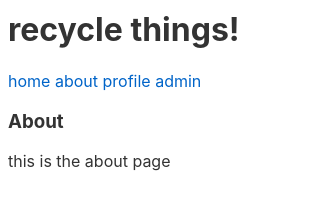
Test: App.svelte › Routing: › GIVEN: The user is not logged in, › WHEN: The user is logged in, › WHEN: Nav bar links lead to both protected and non-protected routes, › THEN: the user clicks profile and is routed to profile-page
The image size is (320, 203).
Click the link "profile" at x=127, y=81, box left=102, top=71, right=151, bottom=91
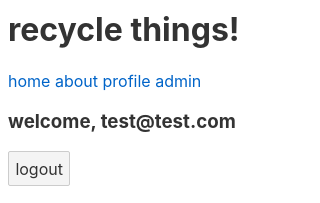
expect the element with test id "profile-page" is shown: met, box left=8, top=110, right=236, bottom=186
